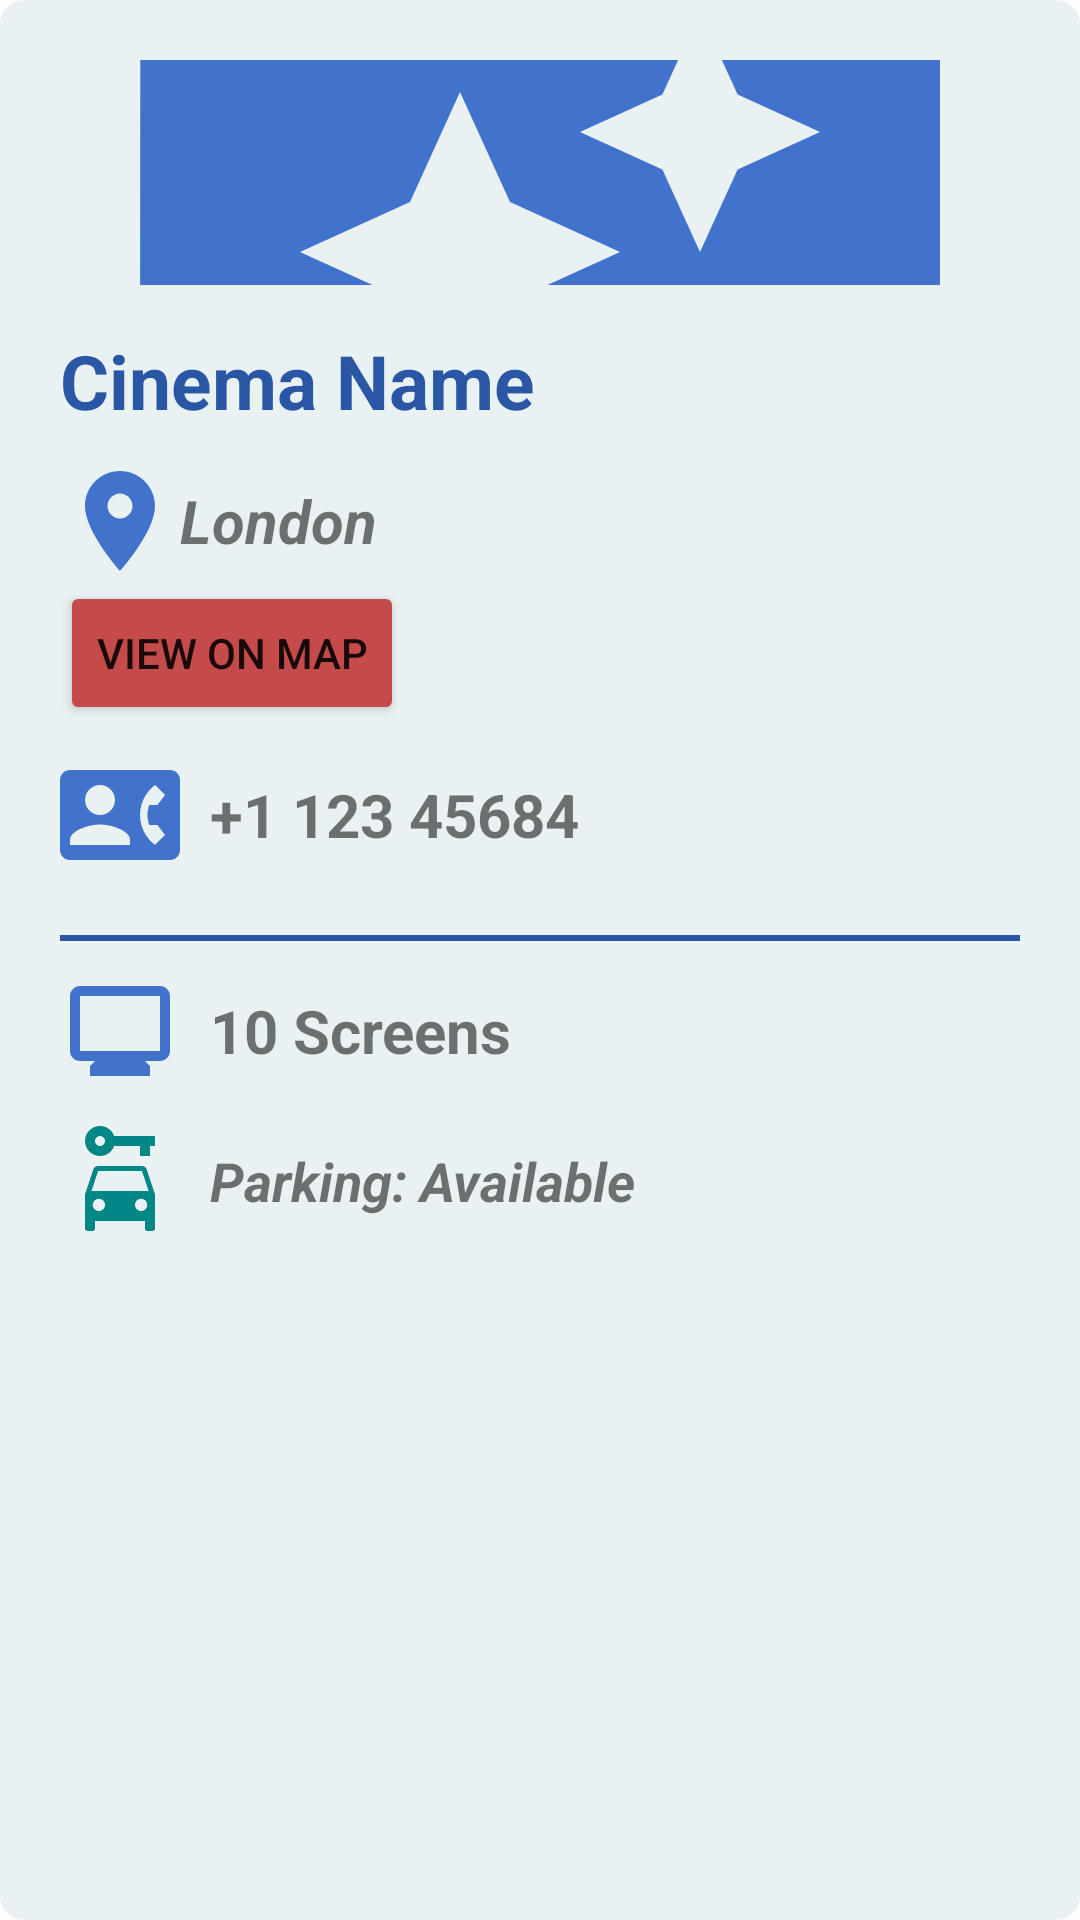

Where icons sit on this 1080 x 1920 app screen, as [x1=x1, y1=y1, x2=x2, y2=y2]:
car rental: [x1=85, y1=1126, x2=155, y2=1231]
contact phone: [x1=60, y1=770, x2=180, y2=860]
location on: [x1=85, y1=471, x2=155, y2=571]
monitor: [x1=70, y1=986, x2=170, y2=1076]
